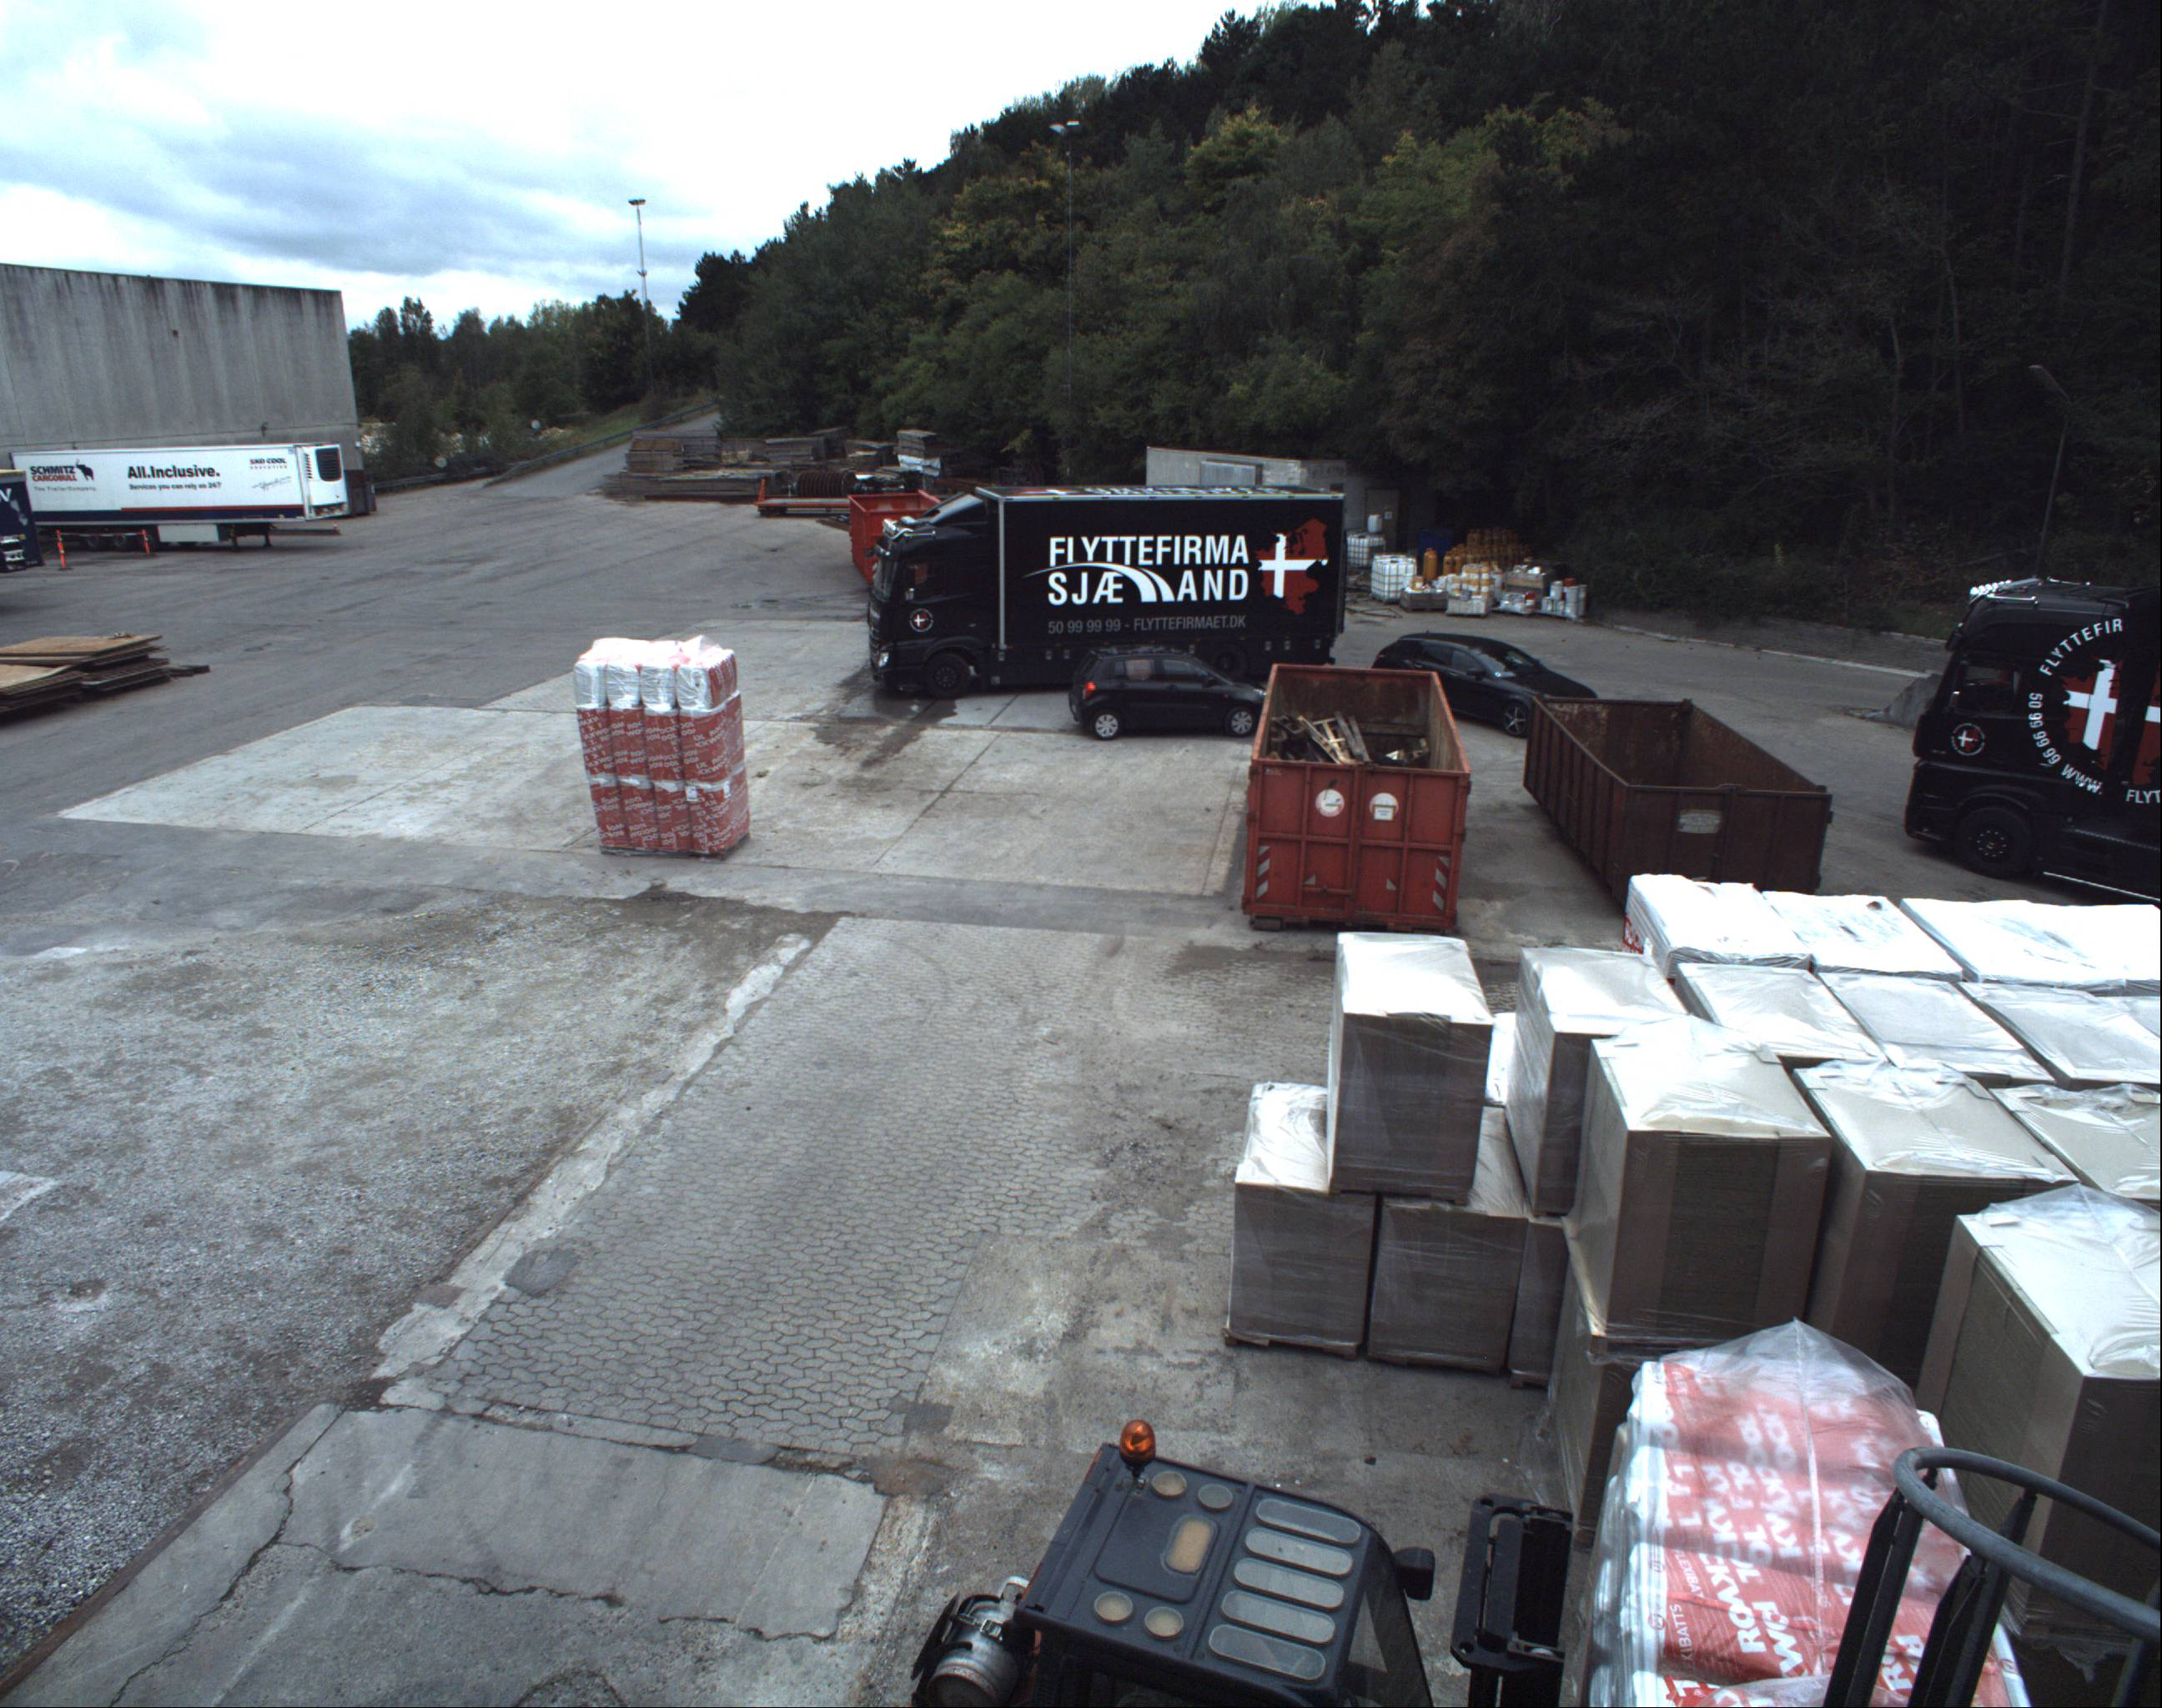rockwool_batts: (1583, 1373, 2030, 1706), (574, 625, 760, 853)
